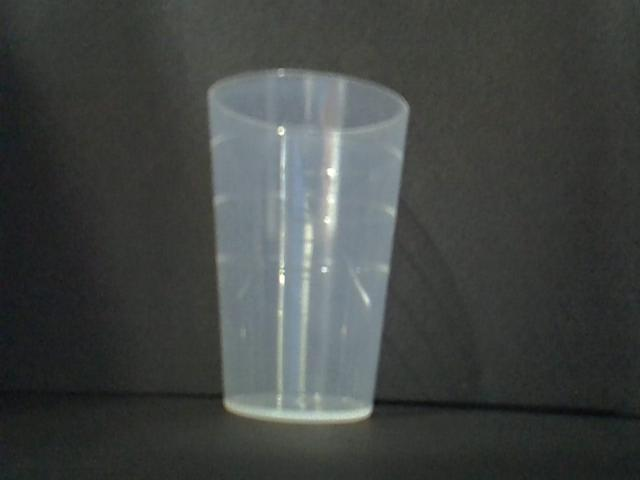cup: (205, 68, 410, 428)
